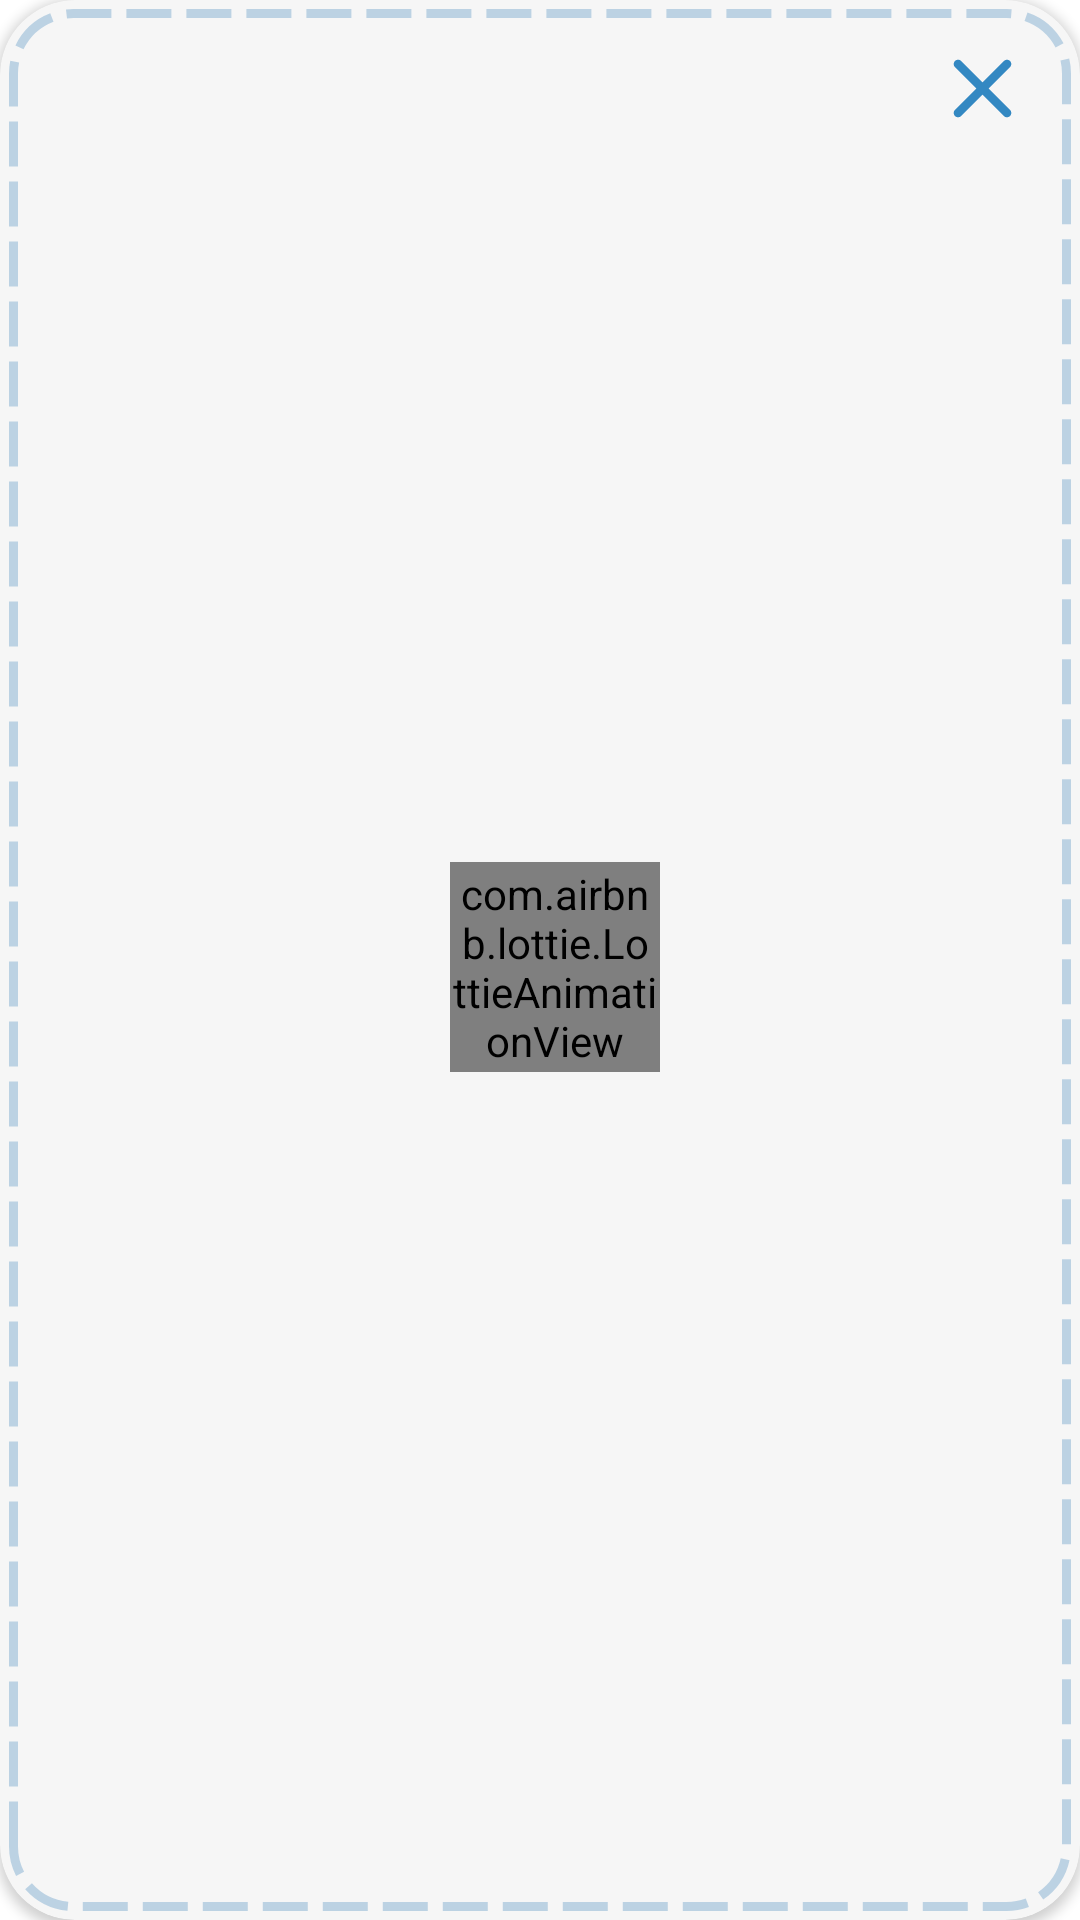

Icon click points for this 1080 x 1920 phone screenshot, format [x,y]:
close: [982,88]
